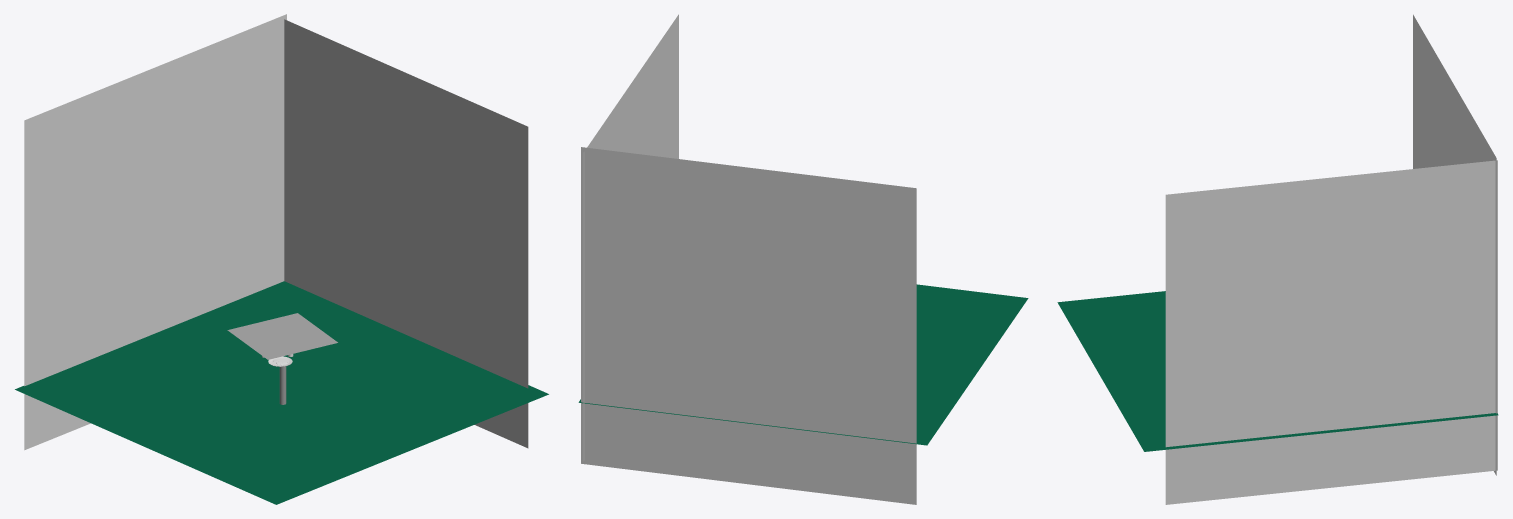
The model's file is christmas.fbx.
3 renders of one model, left to right at view 1: azimuth 30°, elevation 25°; view 2: azimuth 150°, elevation 25°; view 3: azimuth 270°, elevation 25°, orthographic. The views are drawn at different scales.
Visible parts, largest first — view 1: christmas_background:wall2, christmas_background:wall1, christmas_background:floor, TABLE_AND_CLOTH:geo; view 2: christmas_background:wall2, christmas_background:floor, christmas_background:wall1; view 3: christmas_background:wall1, christmas_background:floor, christmas_background:wall2.
Boxes of the visible parts, x1,y1,x2,y2 form: christmas_background:wall2: (24,14,286,450); christmas_background:wall1: (284,19,528,448); christmas_background:floor: (15,281,548,504); TABLE_AND_CLOTH:geo: (227,313,337,359); christmas_background:wall2: (581,147,916,504); christmas_background:floor: (578,284,1028,445); christmas_background:wall1: (583,14,678,460); christmas_background:wall1: (1165,160,1497,504); christmas_background:floor: (1057,291,1498,451); christmas_background:wall2: (1413,14,1496,475).
Bounding box in the file's own units: 47.86 × 38.06 × 47.86.
